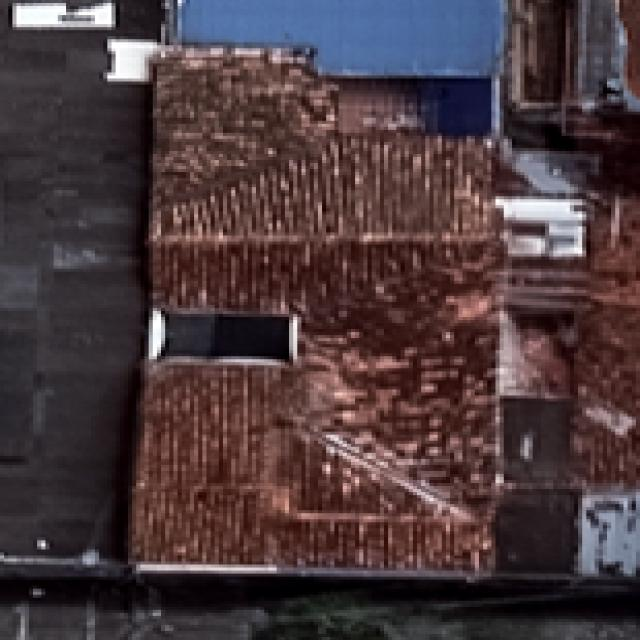Batiment: (132, 49, 501, 571)
